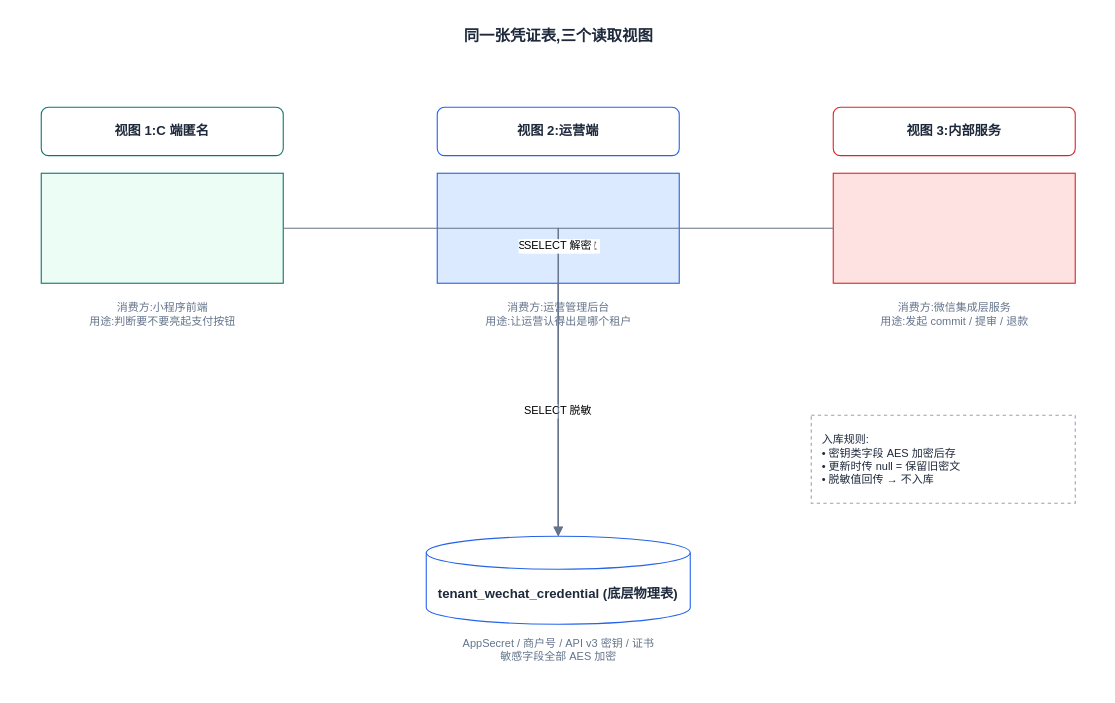
Some shapes in this 1115 by 703 pixel diagram are drawn without their labels. Each missing label, with the centre of its shape:
只返回布尔能力位 hasAppSecret: true wechatJsapiPayEnabled: true ❌ 不返回 AppId / 商户号: the point at 161,227
返回明文(仅限内网) AppSecret / 证书 / API v3 密钥 用于真正调微信 OpenAPI: the point at 953,227
返回脱敏标识符 appId: wx1234****abcd merchantId: 16****88 ❌ 不返回 secret 原文: the point at 557,227
